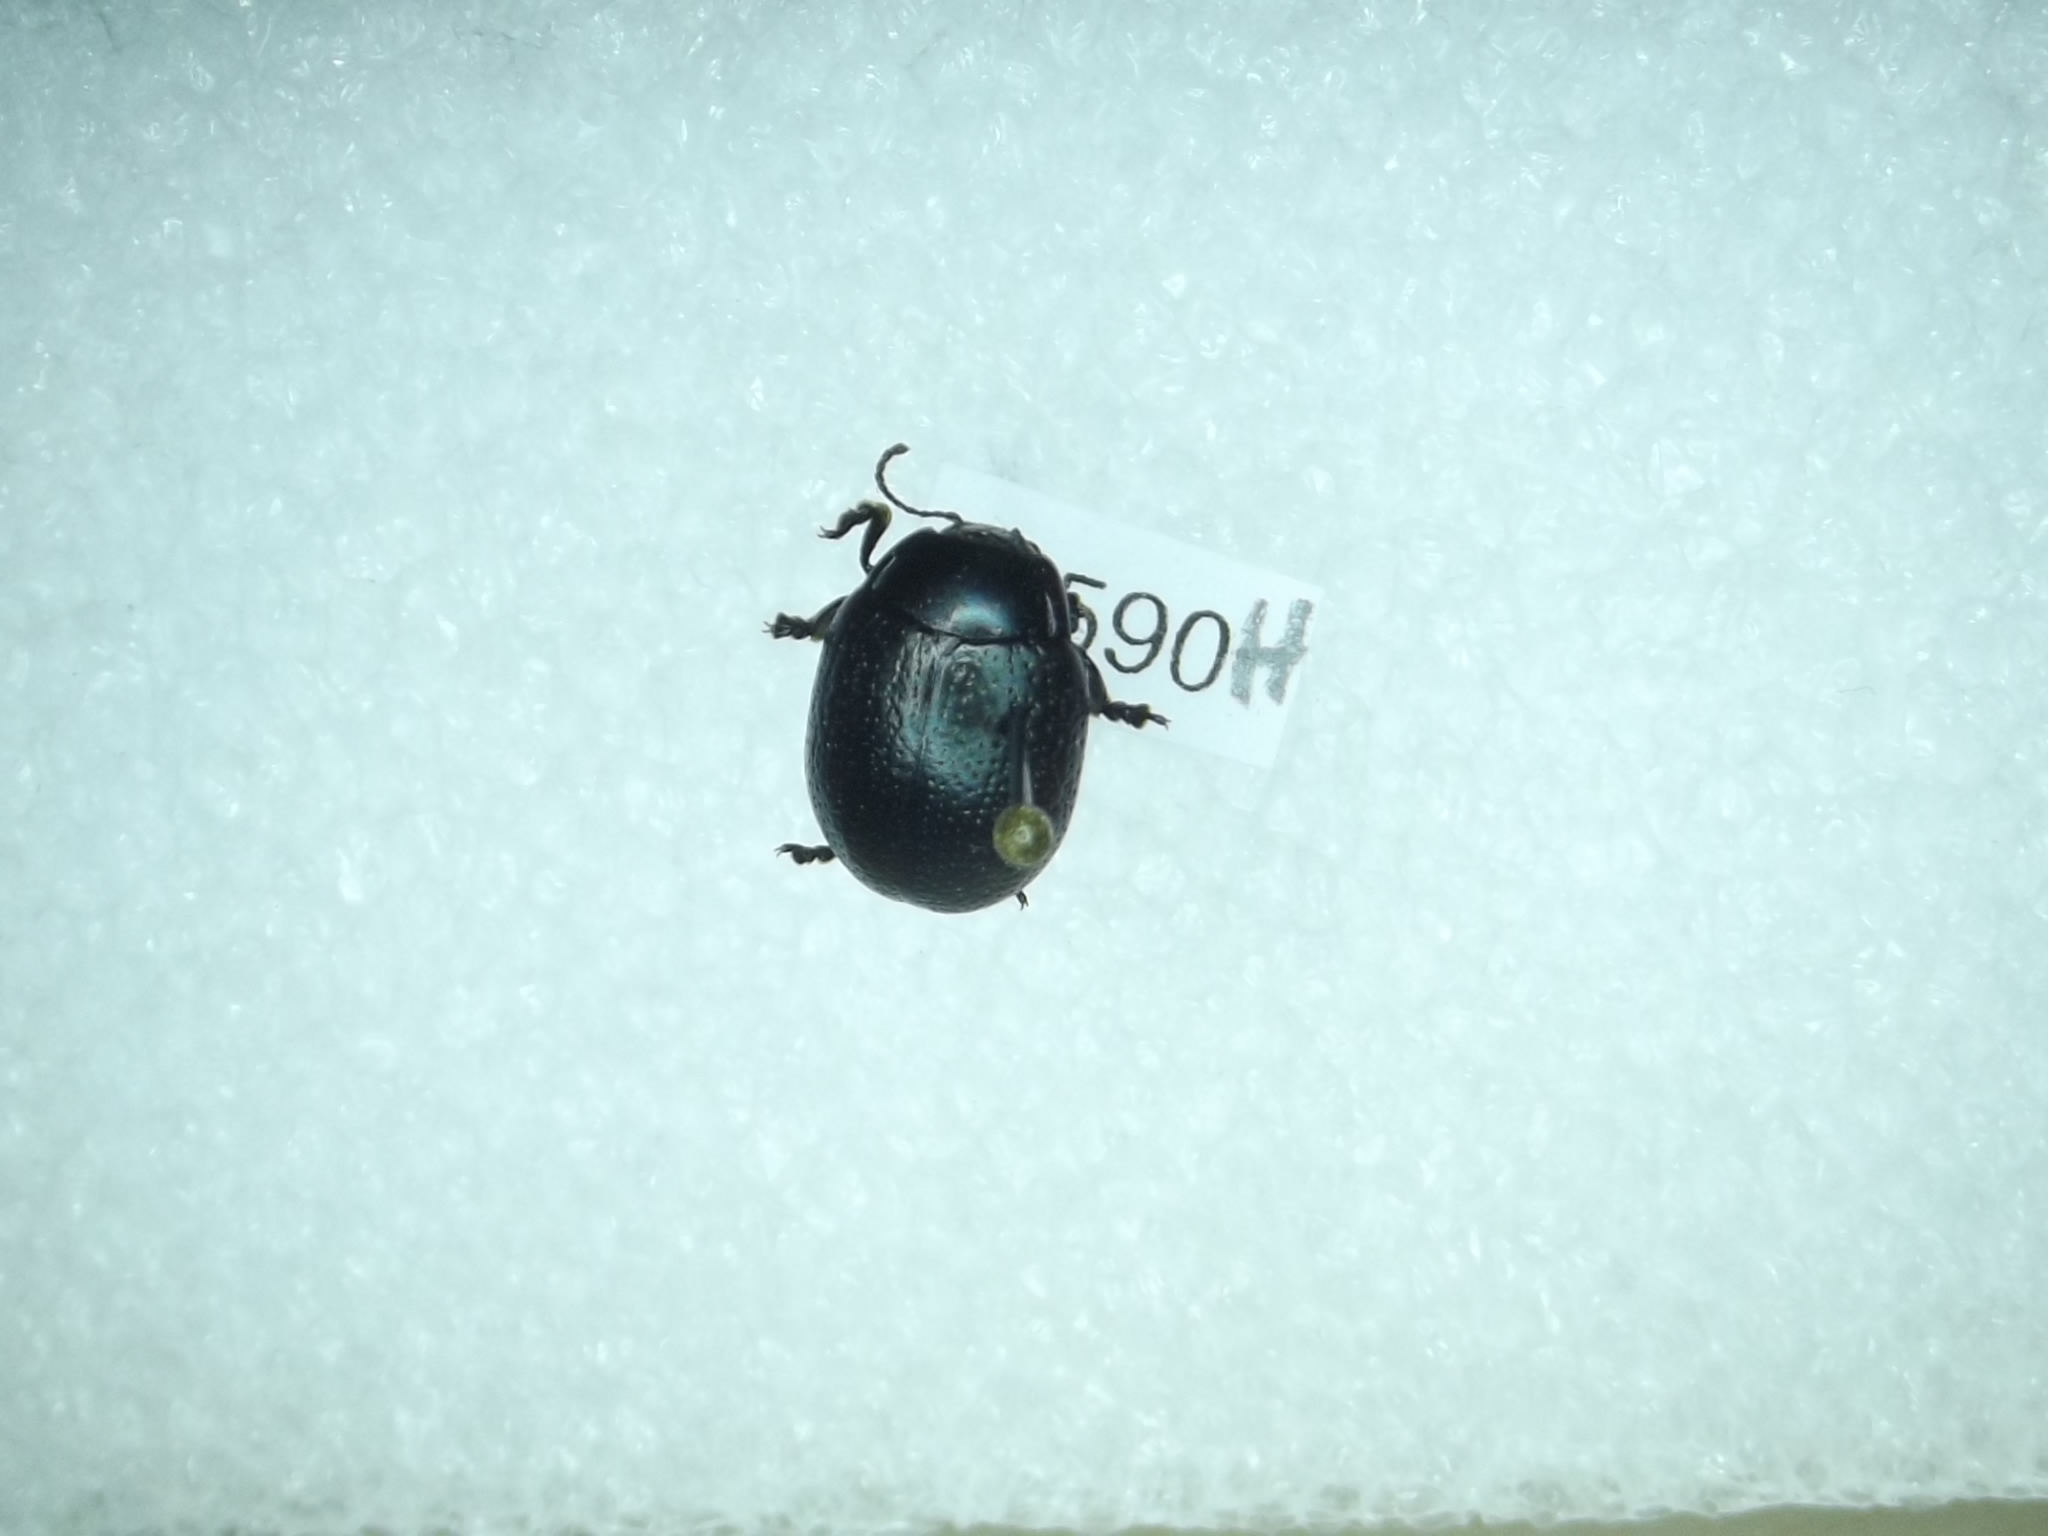Chrysolina_oricalcia: (761, 436, 1172, 920)
